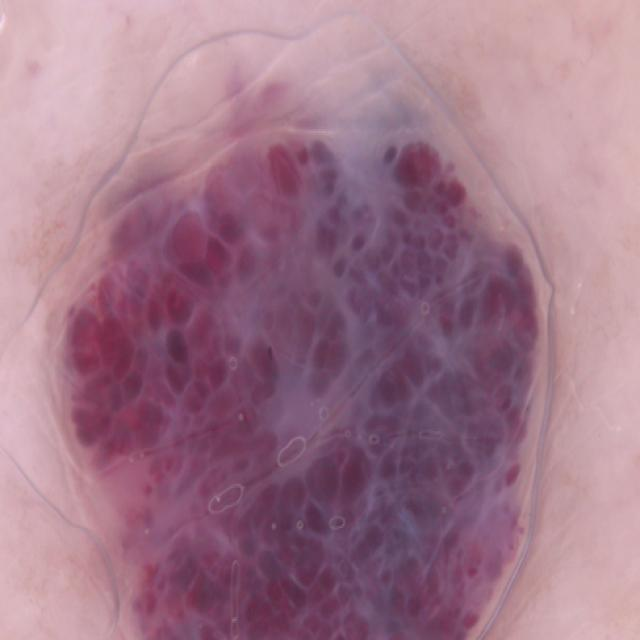Vascular Lesions: (0, 26, 565, 640)
